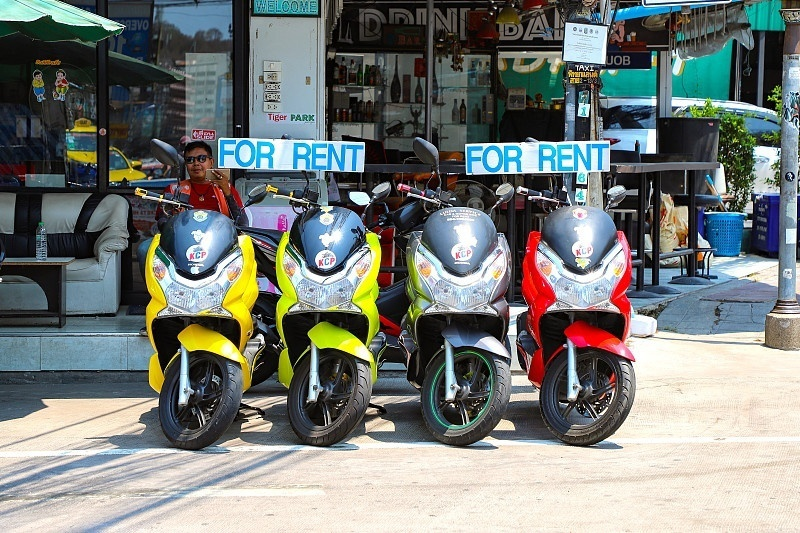non-vehicle: (523, 171, 632, 454), (145, 183, 253, 449), (406, 173, 505, 453), (279, 184, 376, 444)
